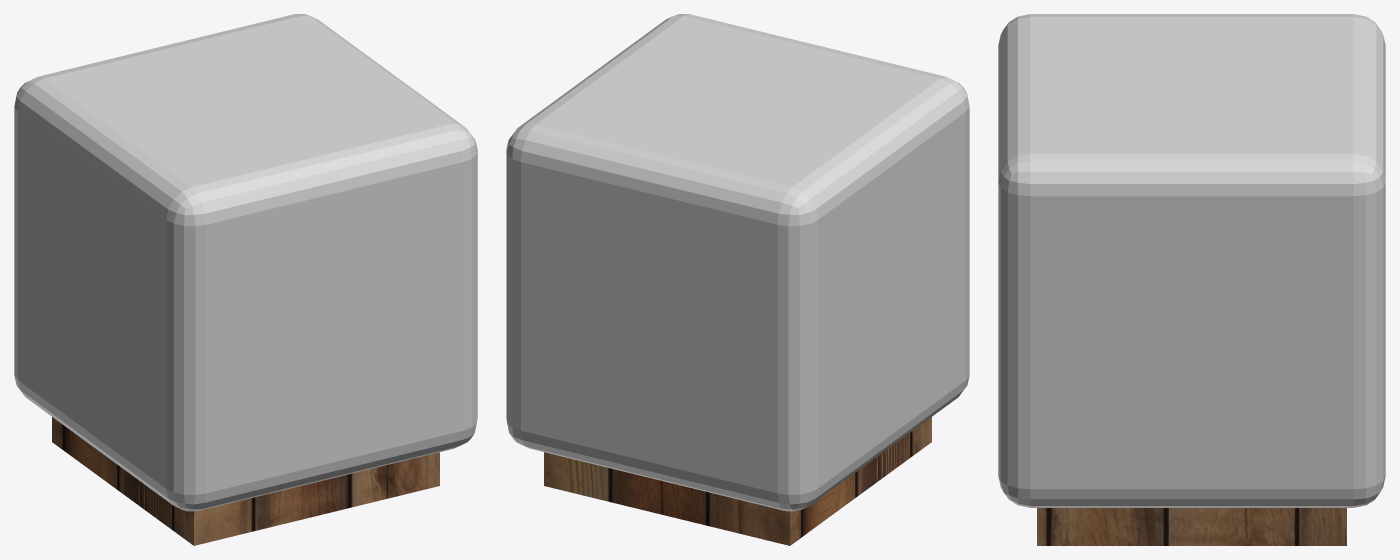
Rendered from lamp.fbx.
3 views of the same model, side by side, from view 1: azimuth 30°, elevation 25°; view 2: azimuth 150°, elevation 25°; view 3: azimuth 270°, elevation 25° (orthographic). The views are drawn at different scales.
Parts seen in each view (by area): view 1: Body, Base; view 2: Body, Base; view 3: Body, Base.
Boxes of the visible parts, x1,y1,x2,y2 form: Body: (14,14,477,511); Base: (52,417,439,545); Body: (506,14,969,511); Base: (544,417,931,545); Body: (998,14,1385,507); Base: (1037,508,1346,545).
Size of the model in its own units: 200 by 225 by 200.
